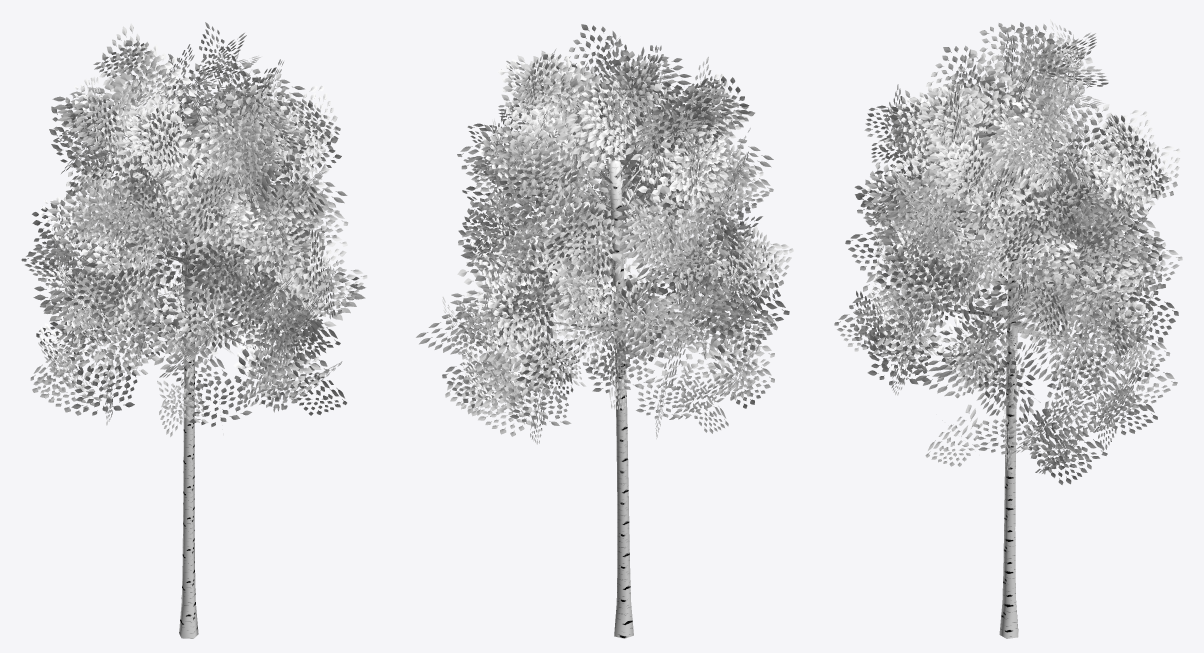
The model's file is Birch_LOD0_P2640_B1800_L800_v04.fbx.
3 renders of one model, left to right at view 1: azimuth 30°, elevation 25°; view 2: azimuth 150°, elevation 25°; view 3: azimuth 270°, elevation 25°, orthographic.
Visible parts, largest first — view 1: leafclumpatlas_birch_1, birchbarktextureseamless_0; view 2: leafclumpatlas_birch_1, birchbarktextureseamless_0; view 3: leafclumpatlas_birch_1, birchbarktextureseamless_0.
Part boxes in pixels (box(x1,y1,x2,y2)): leafclumpatlas_birch_1: box(21, 22, 367, 436); birchbarktextureseamless_0: box(91, 85, 275, 638); leafclumpatlas_birch_1: box(416, 24, 793, 444); birchbarktextureseamless_0: box(519, 119, 719, 638); leafclumpatlas_birch_1: box(834, 19, 1182, 484); birchbarktextureseamless_0: box(902, 85, 1112, 638).
Bounding box in the file's own units: 801 × 1382 × 752.
